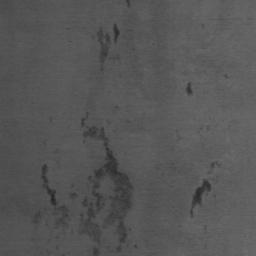Iron scale compression: (78, 112, 133, 244), (42, 166, 69, 228), (92, 24, 120, 71), (190, 180, 211, 218), (31, 214, 41, 225), (186, 82, 193, 95), (92, 248, 100, 256), (68, 193, 77, 199)
